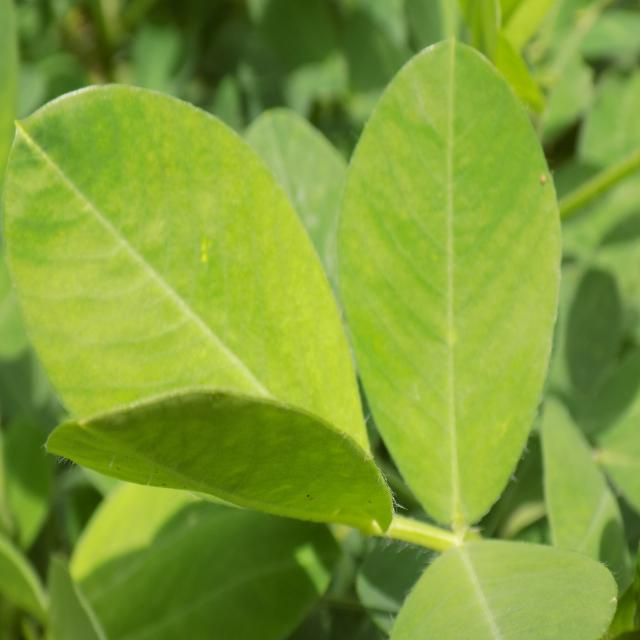Ground nut_healthy: (6, 82, 390, 521), (343, 34, 557, 540)
